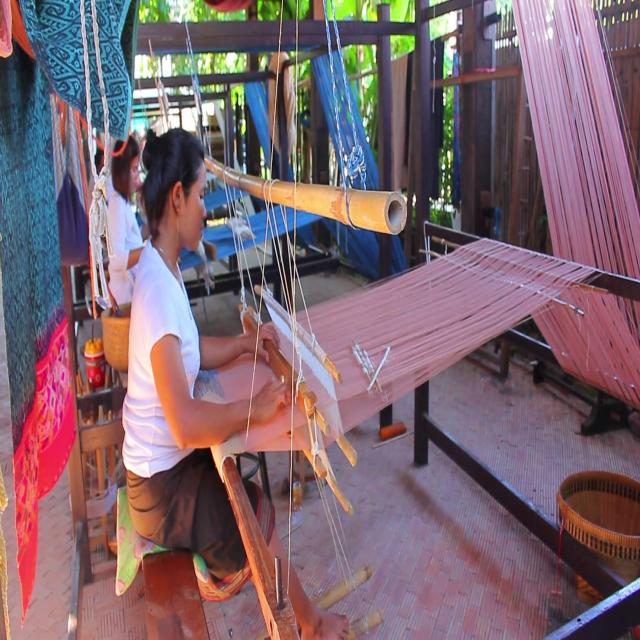not-gloved: (252, 375, 292, 423), (250, 320, 280, 363)
